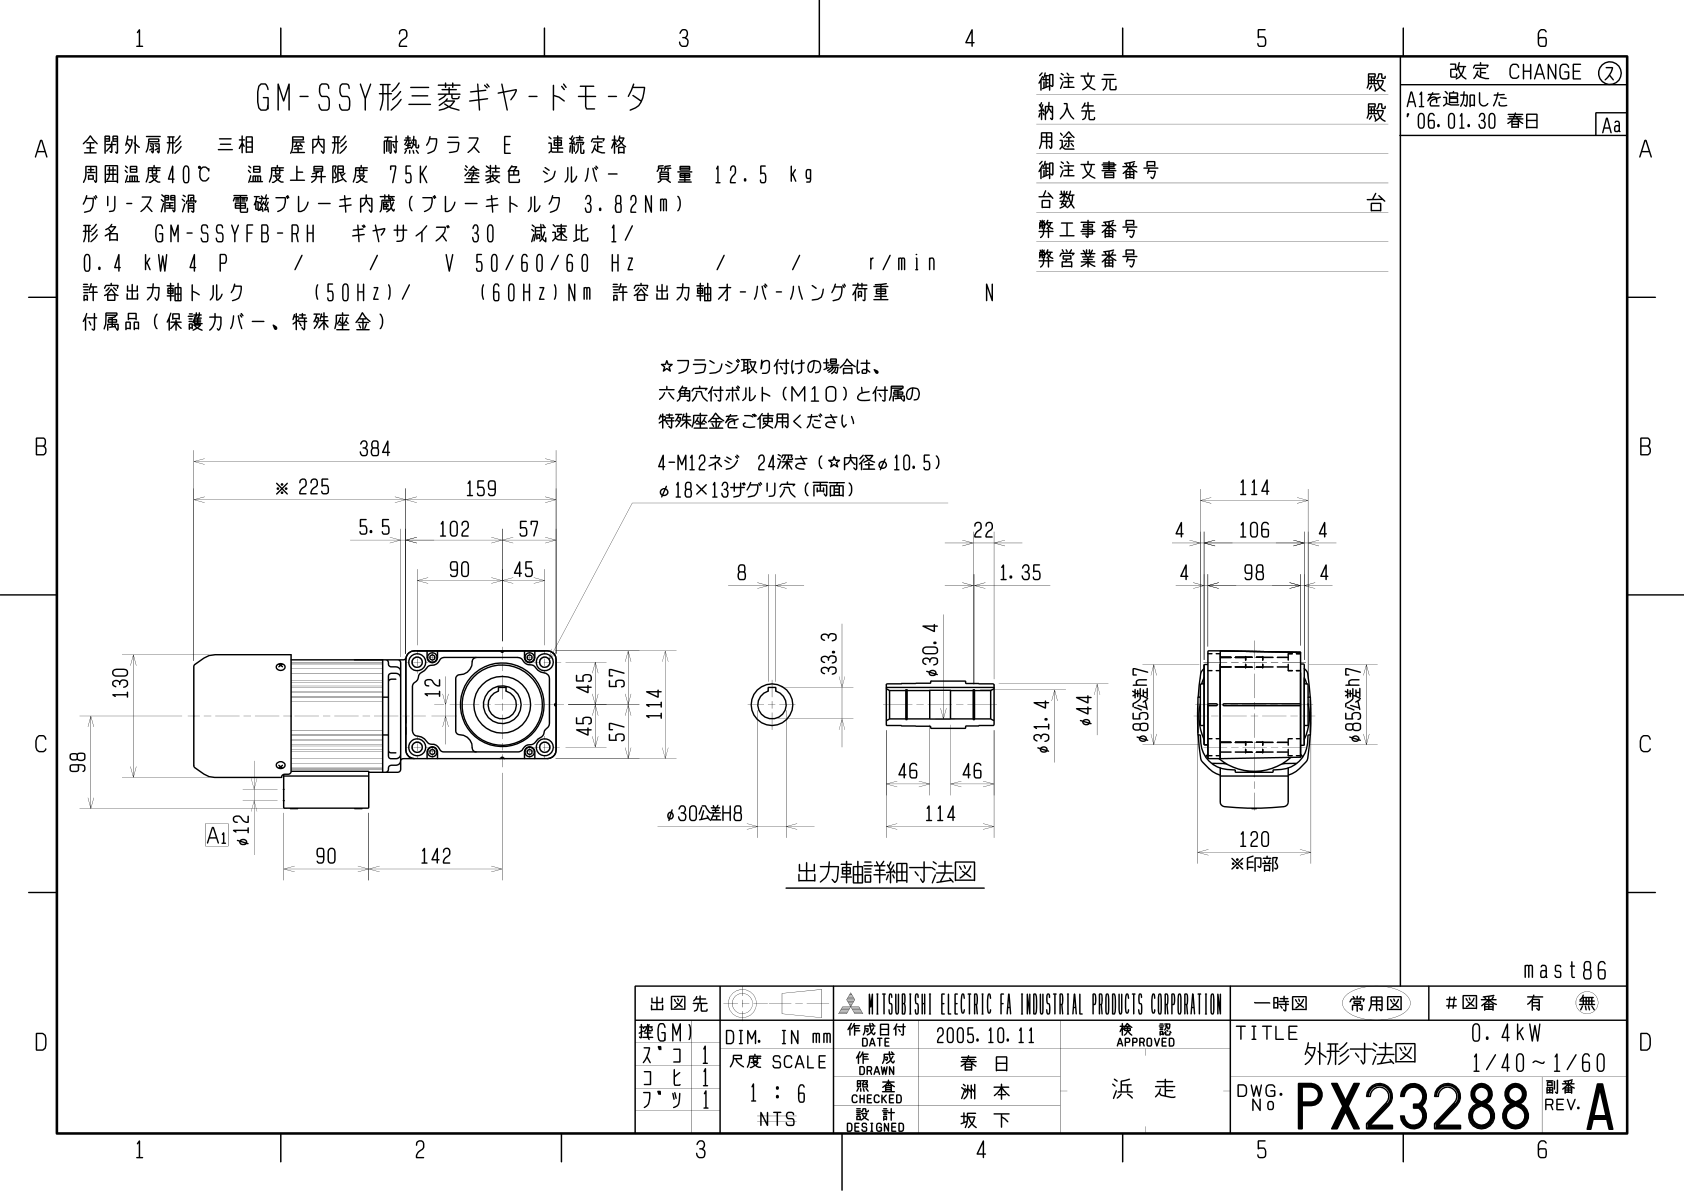GM_SSY_屋内_三相: (61, 345, 1395, 945)
